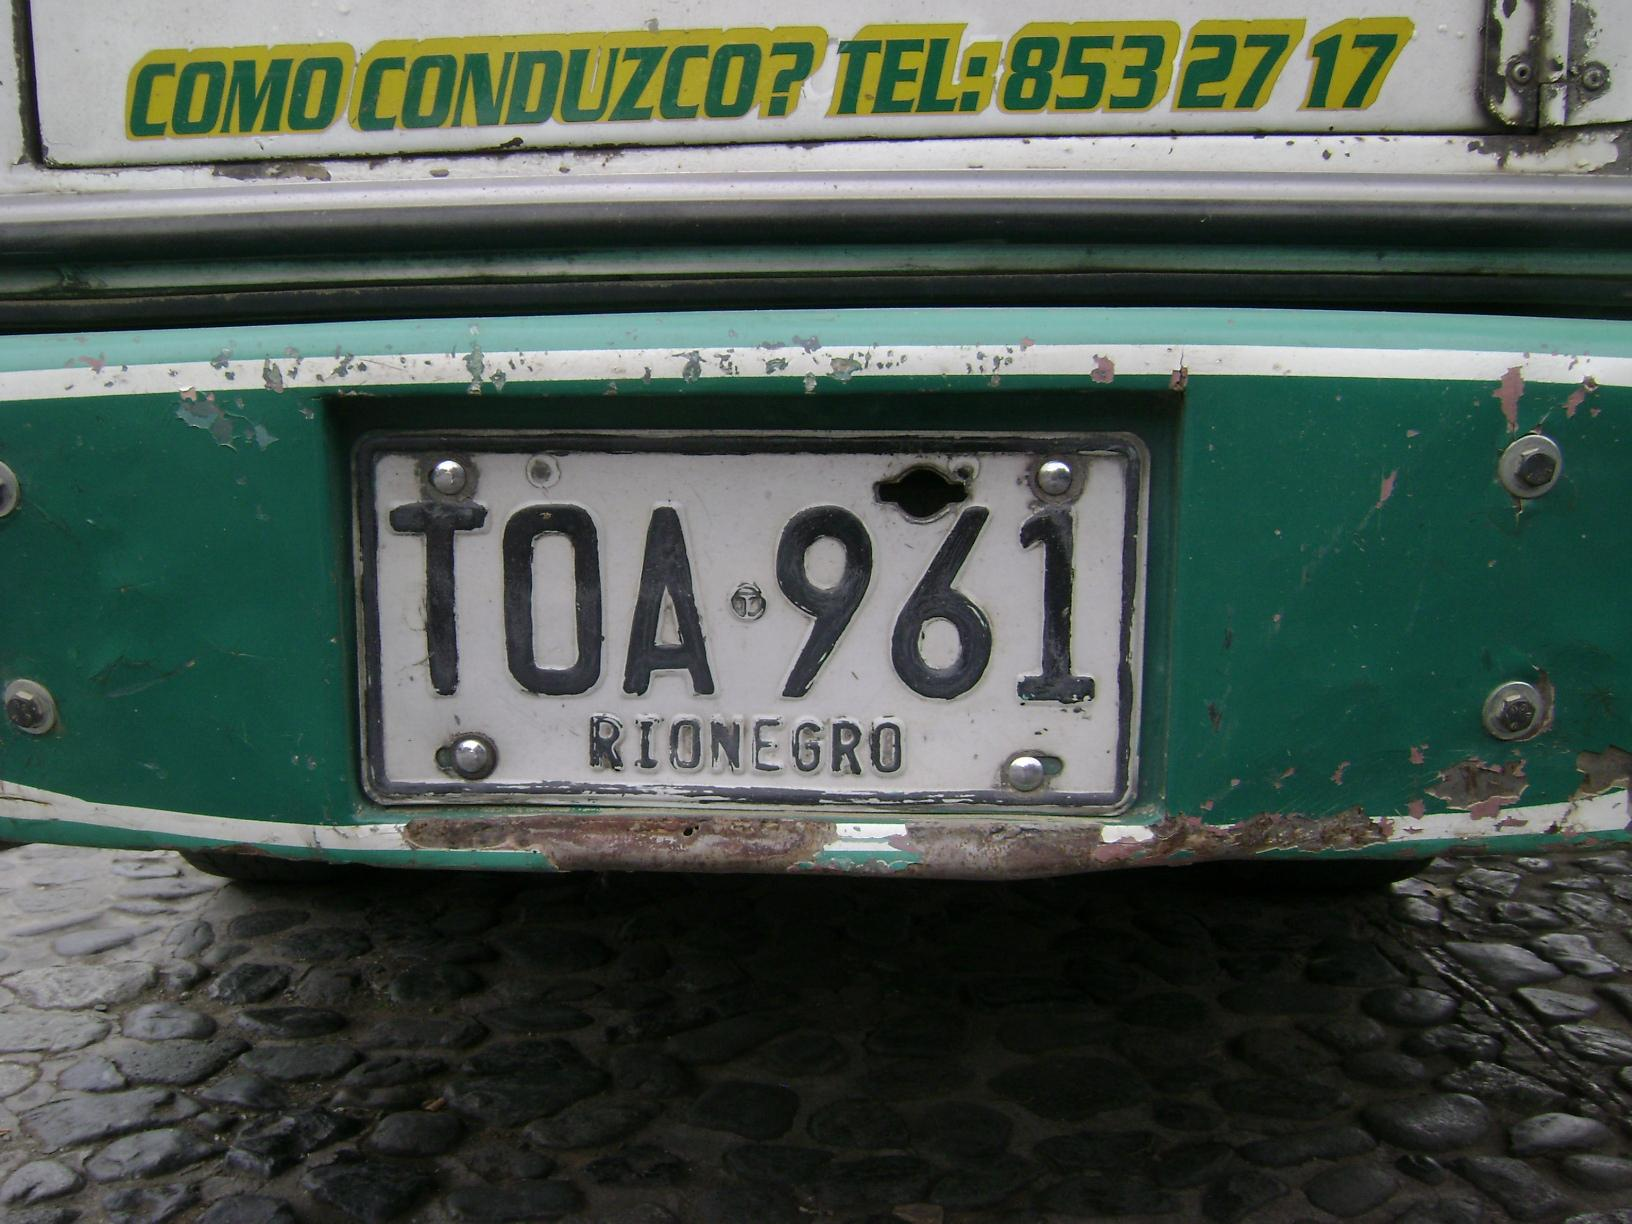placas: (342, 418, 1154, 816)
